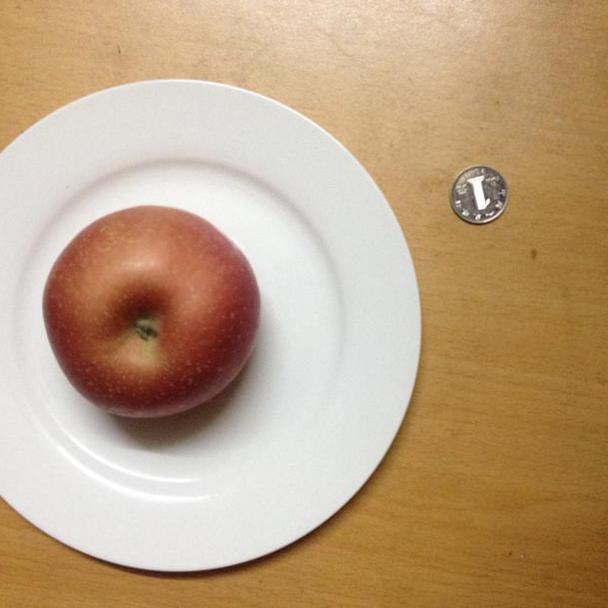apple: (42, 207, 262, 419)
